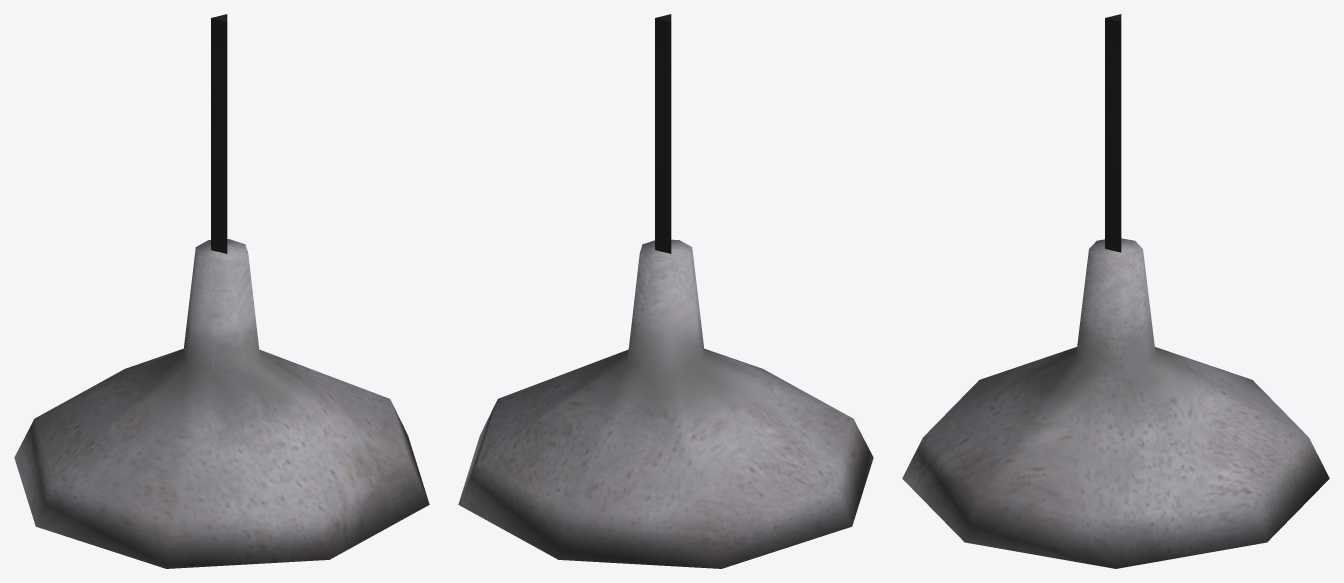
Rendered from Lamp.fbx.
3 renders of one model, left to right at view 1: azimuth 30°, elevation 25°; view 2: azimuth 150°, elevation 25°; view 3: azimuth 270°, elevation 25°, orthographic.
Parts seen in each view (by area): view 1: Lamp; view 2: Lamp; view 3: Lamp.
Part boxes in pixels (x1,y1,x2,y2): Lamp: (14,14,429,568); Lamp: (458,14,873,568); Lamp: (902,14,1329,568).
Size of the model in its own units: 59.22 by 70.38 by 59.22.
